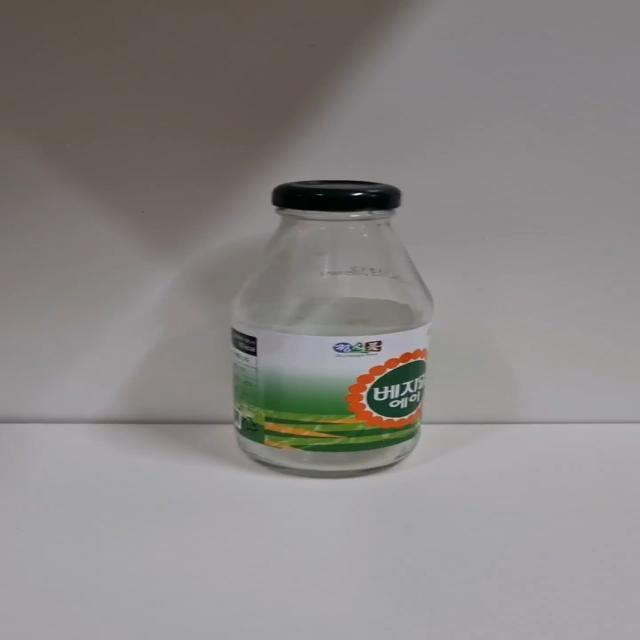Glass: (228, 180, 435, 478)
